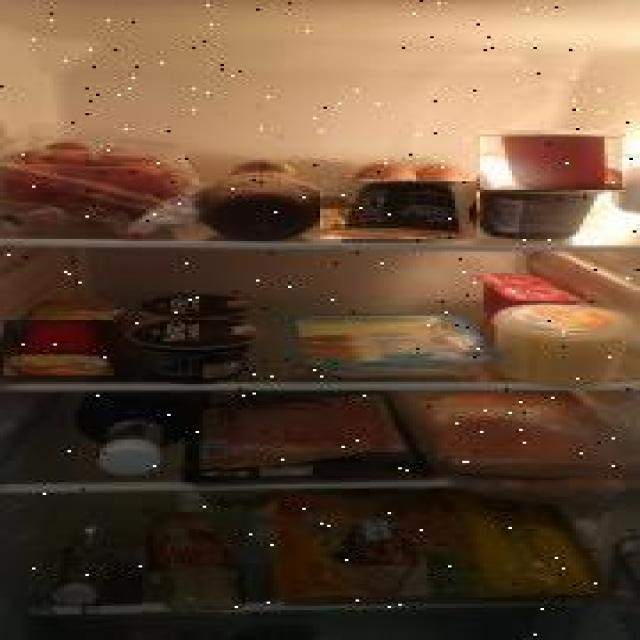sausage: (142, 508, 245, 614)
tortillas: (270, 491, 612, 604)
yogurt: (322, 181, 478, 239), (482, 130, 624, 190), (3, 320, 114, 375)
